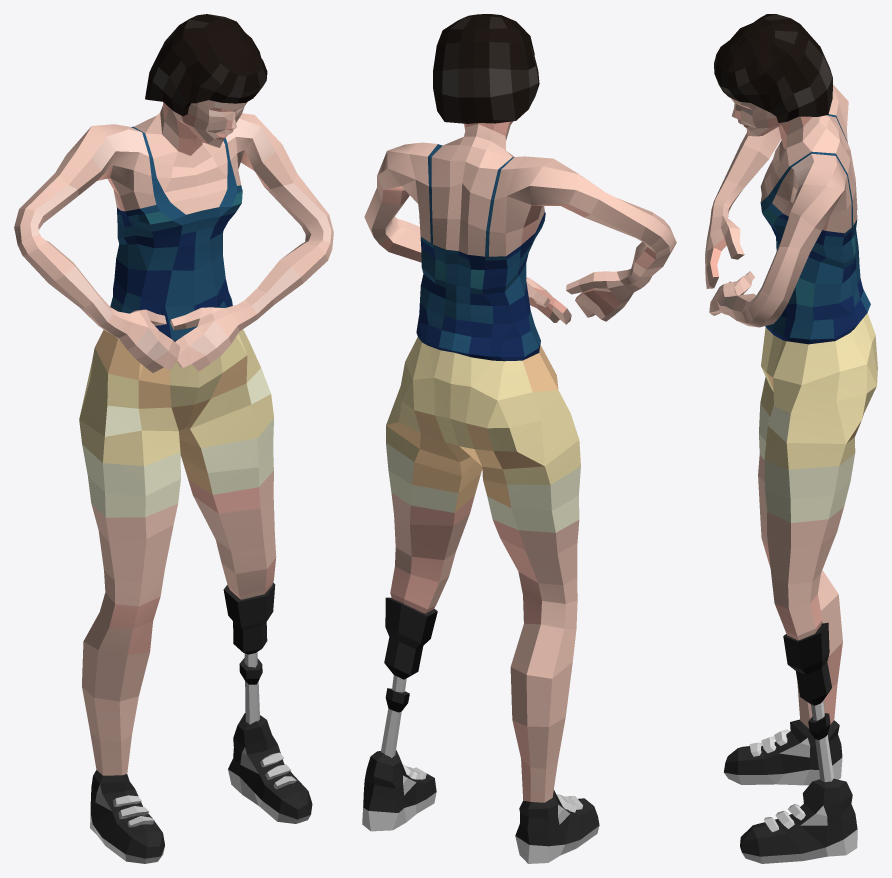
File: girl.glb
3 views of the same model, side by side, from view 1: azimuth 30°, elevation 25°; view 2: azimuth 150°, elevation 25°; view 3: azimuth 270°, elevation 25° (orthographic).
Parts seen in each view (by area): view 1: girl; view 2: girl; view 3: girl.
Boxes of the visible parts, box(x1,y1,x2,y2) form: girl: box(14, 14, 333, 863); girl: box(362, 14, 676, 863); girl: box(705, 14, 877, 863).
Bounding box in the file's own units: 0.6029 × 1.52 × 0.2995.
1 material, 1 textured.
